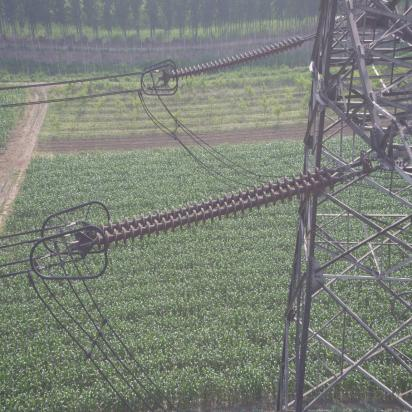insulator: (87, 163, 355, 254), (167, 33, 314, 82)
